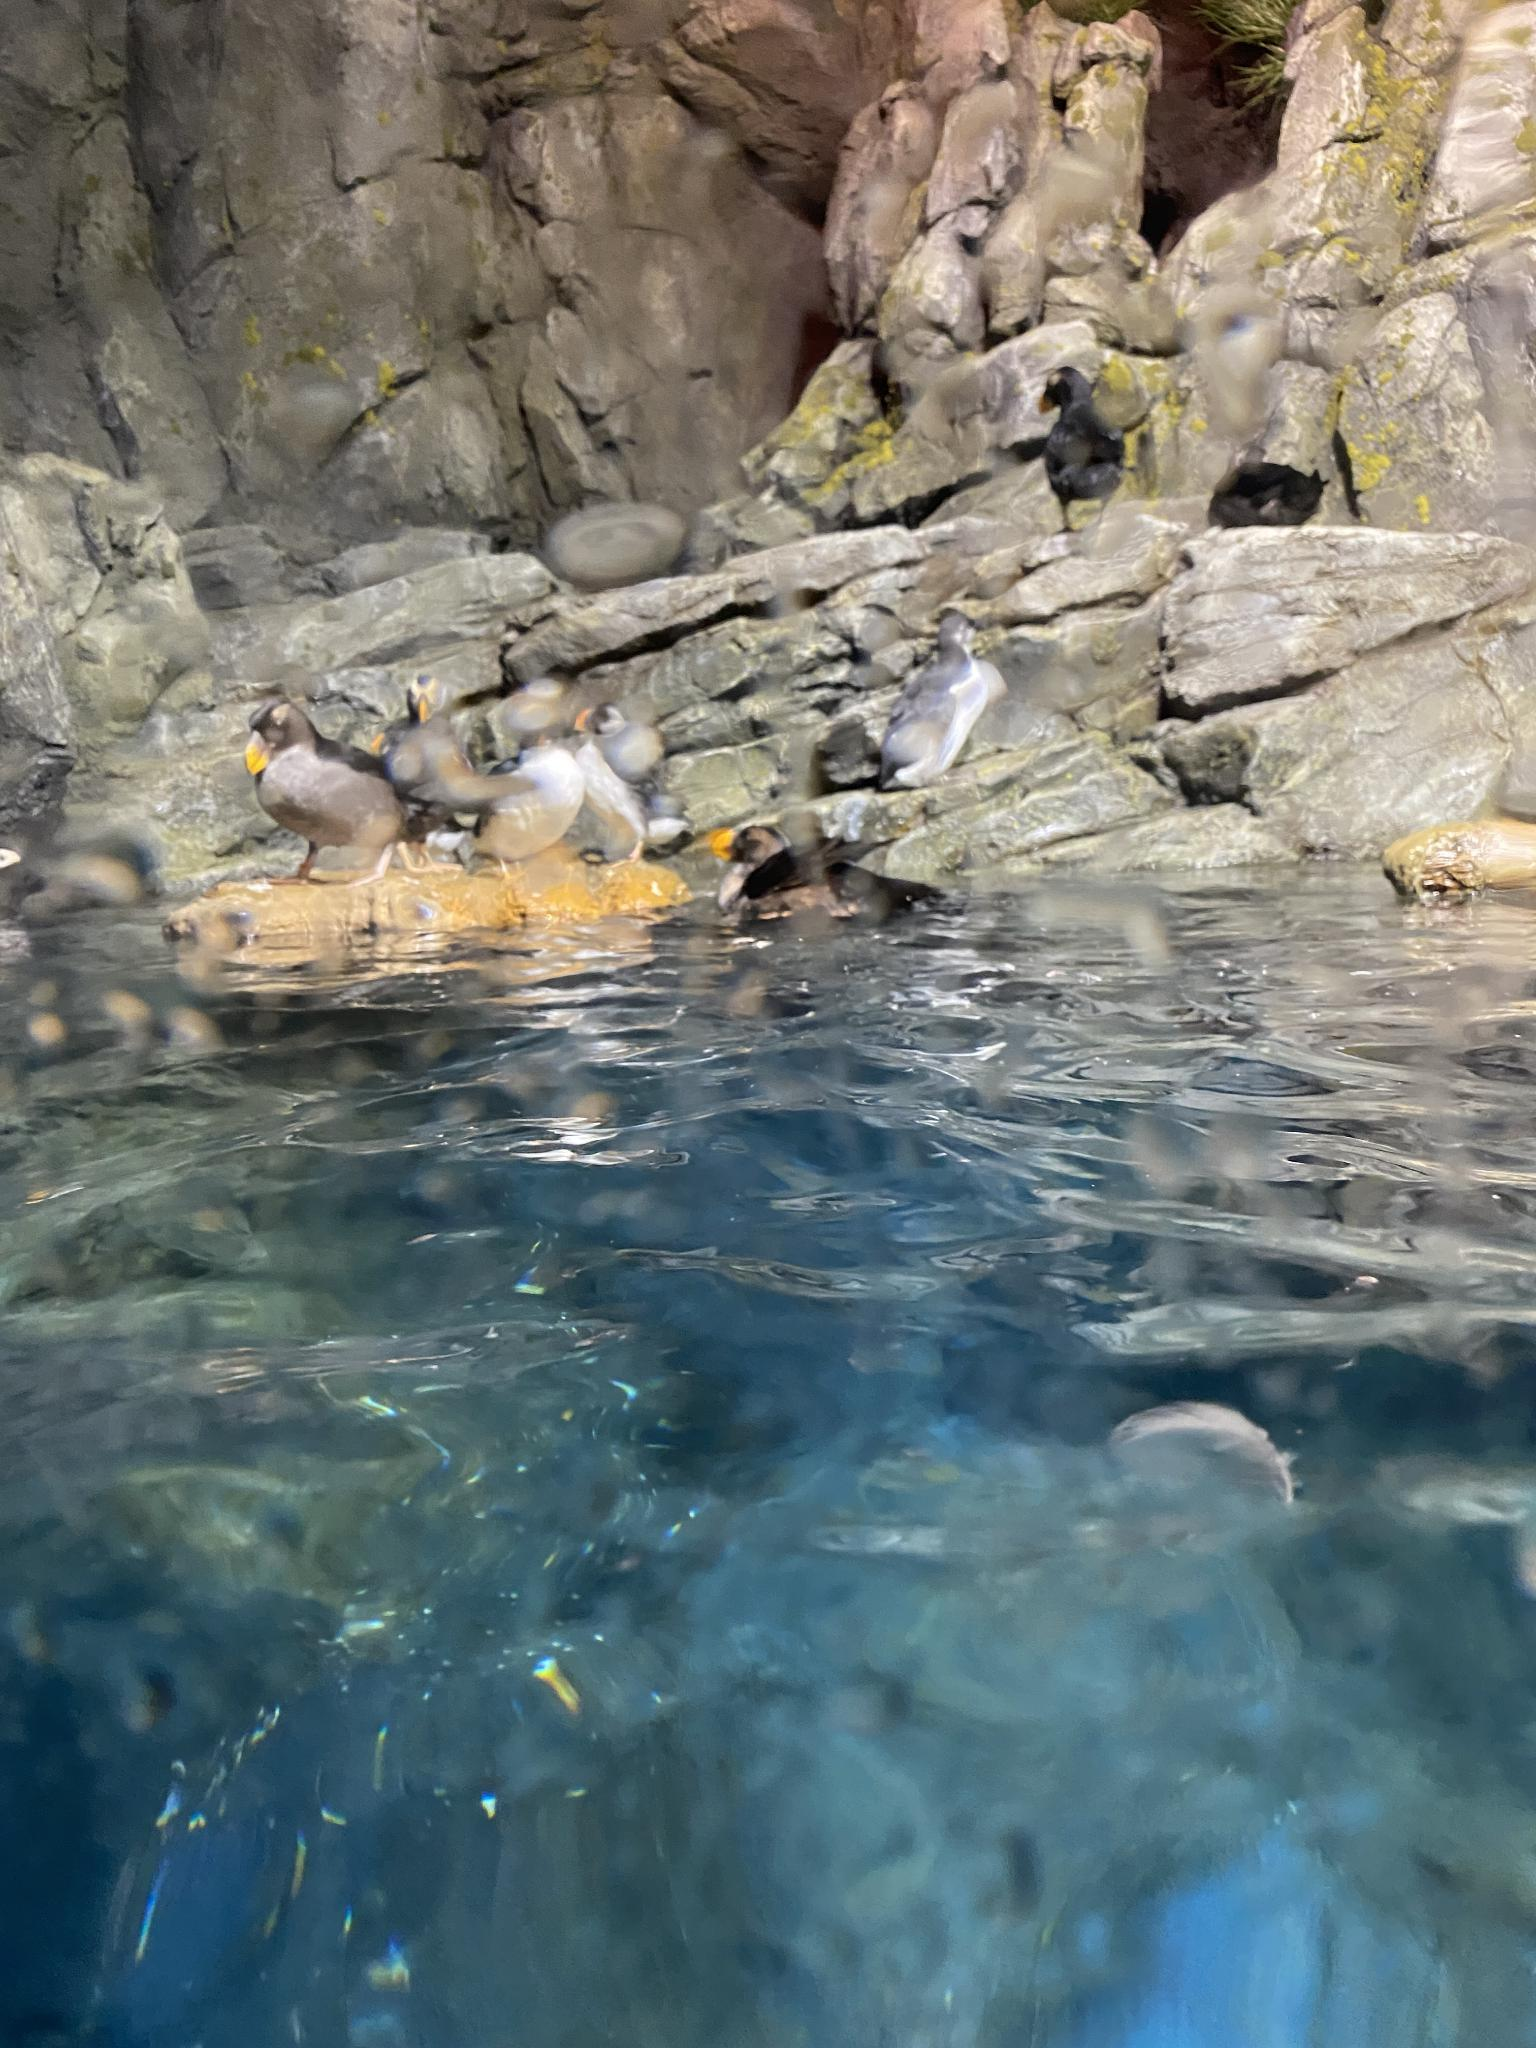puffin: (244, 698, 415, 885), (369, 676, 532, 848), (871, 610, 1004, 792), (1033, 360, 1162, 527), (545, 721, 689, 868), (465, 727, 586, 868), (720, 805, 849, 911), (1205, 460, 1326, 531), (578, 703, 670, 789)
